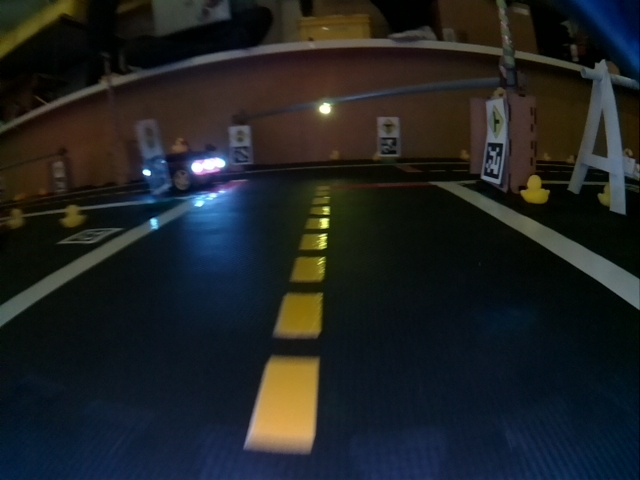Duckie: (520, 176, 550, 204), (61, 205, 86, 226), (6, 209, 25, 225), (598, 183, 611, 206), (172, 138, 187, 153), (330, 151, 340, 160), (462, 149, 471, 158)
Intersection sign: (486, 104, 505, 136), (381, 119, 398, 134)
QR code: (145, 156, 171, 193), (59, 229, 122, 244), (482, 143, 505, 181), (232, 146, 250, 165), (381, 138, 399, 155)
Traffic light: (317, 100, 334, 116)
